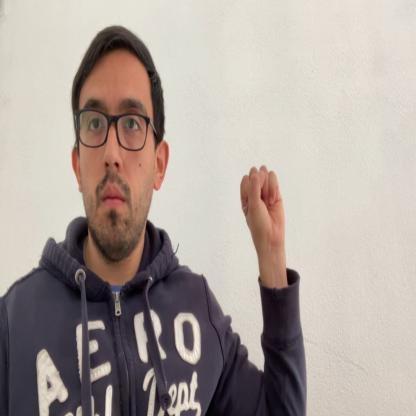S: (240, 167, 286, 248)
